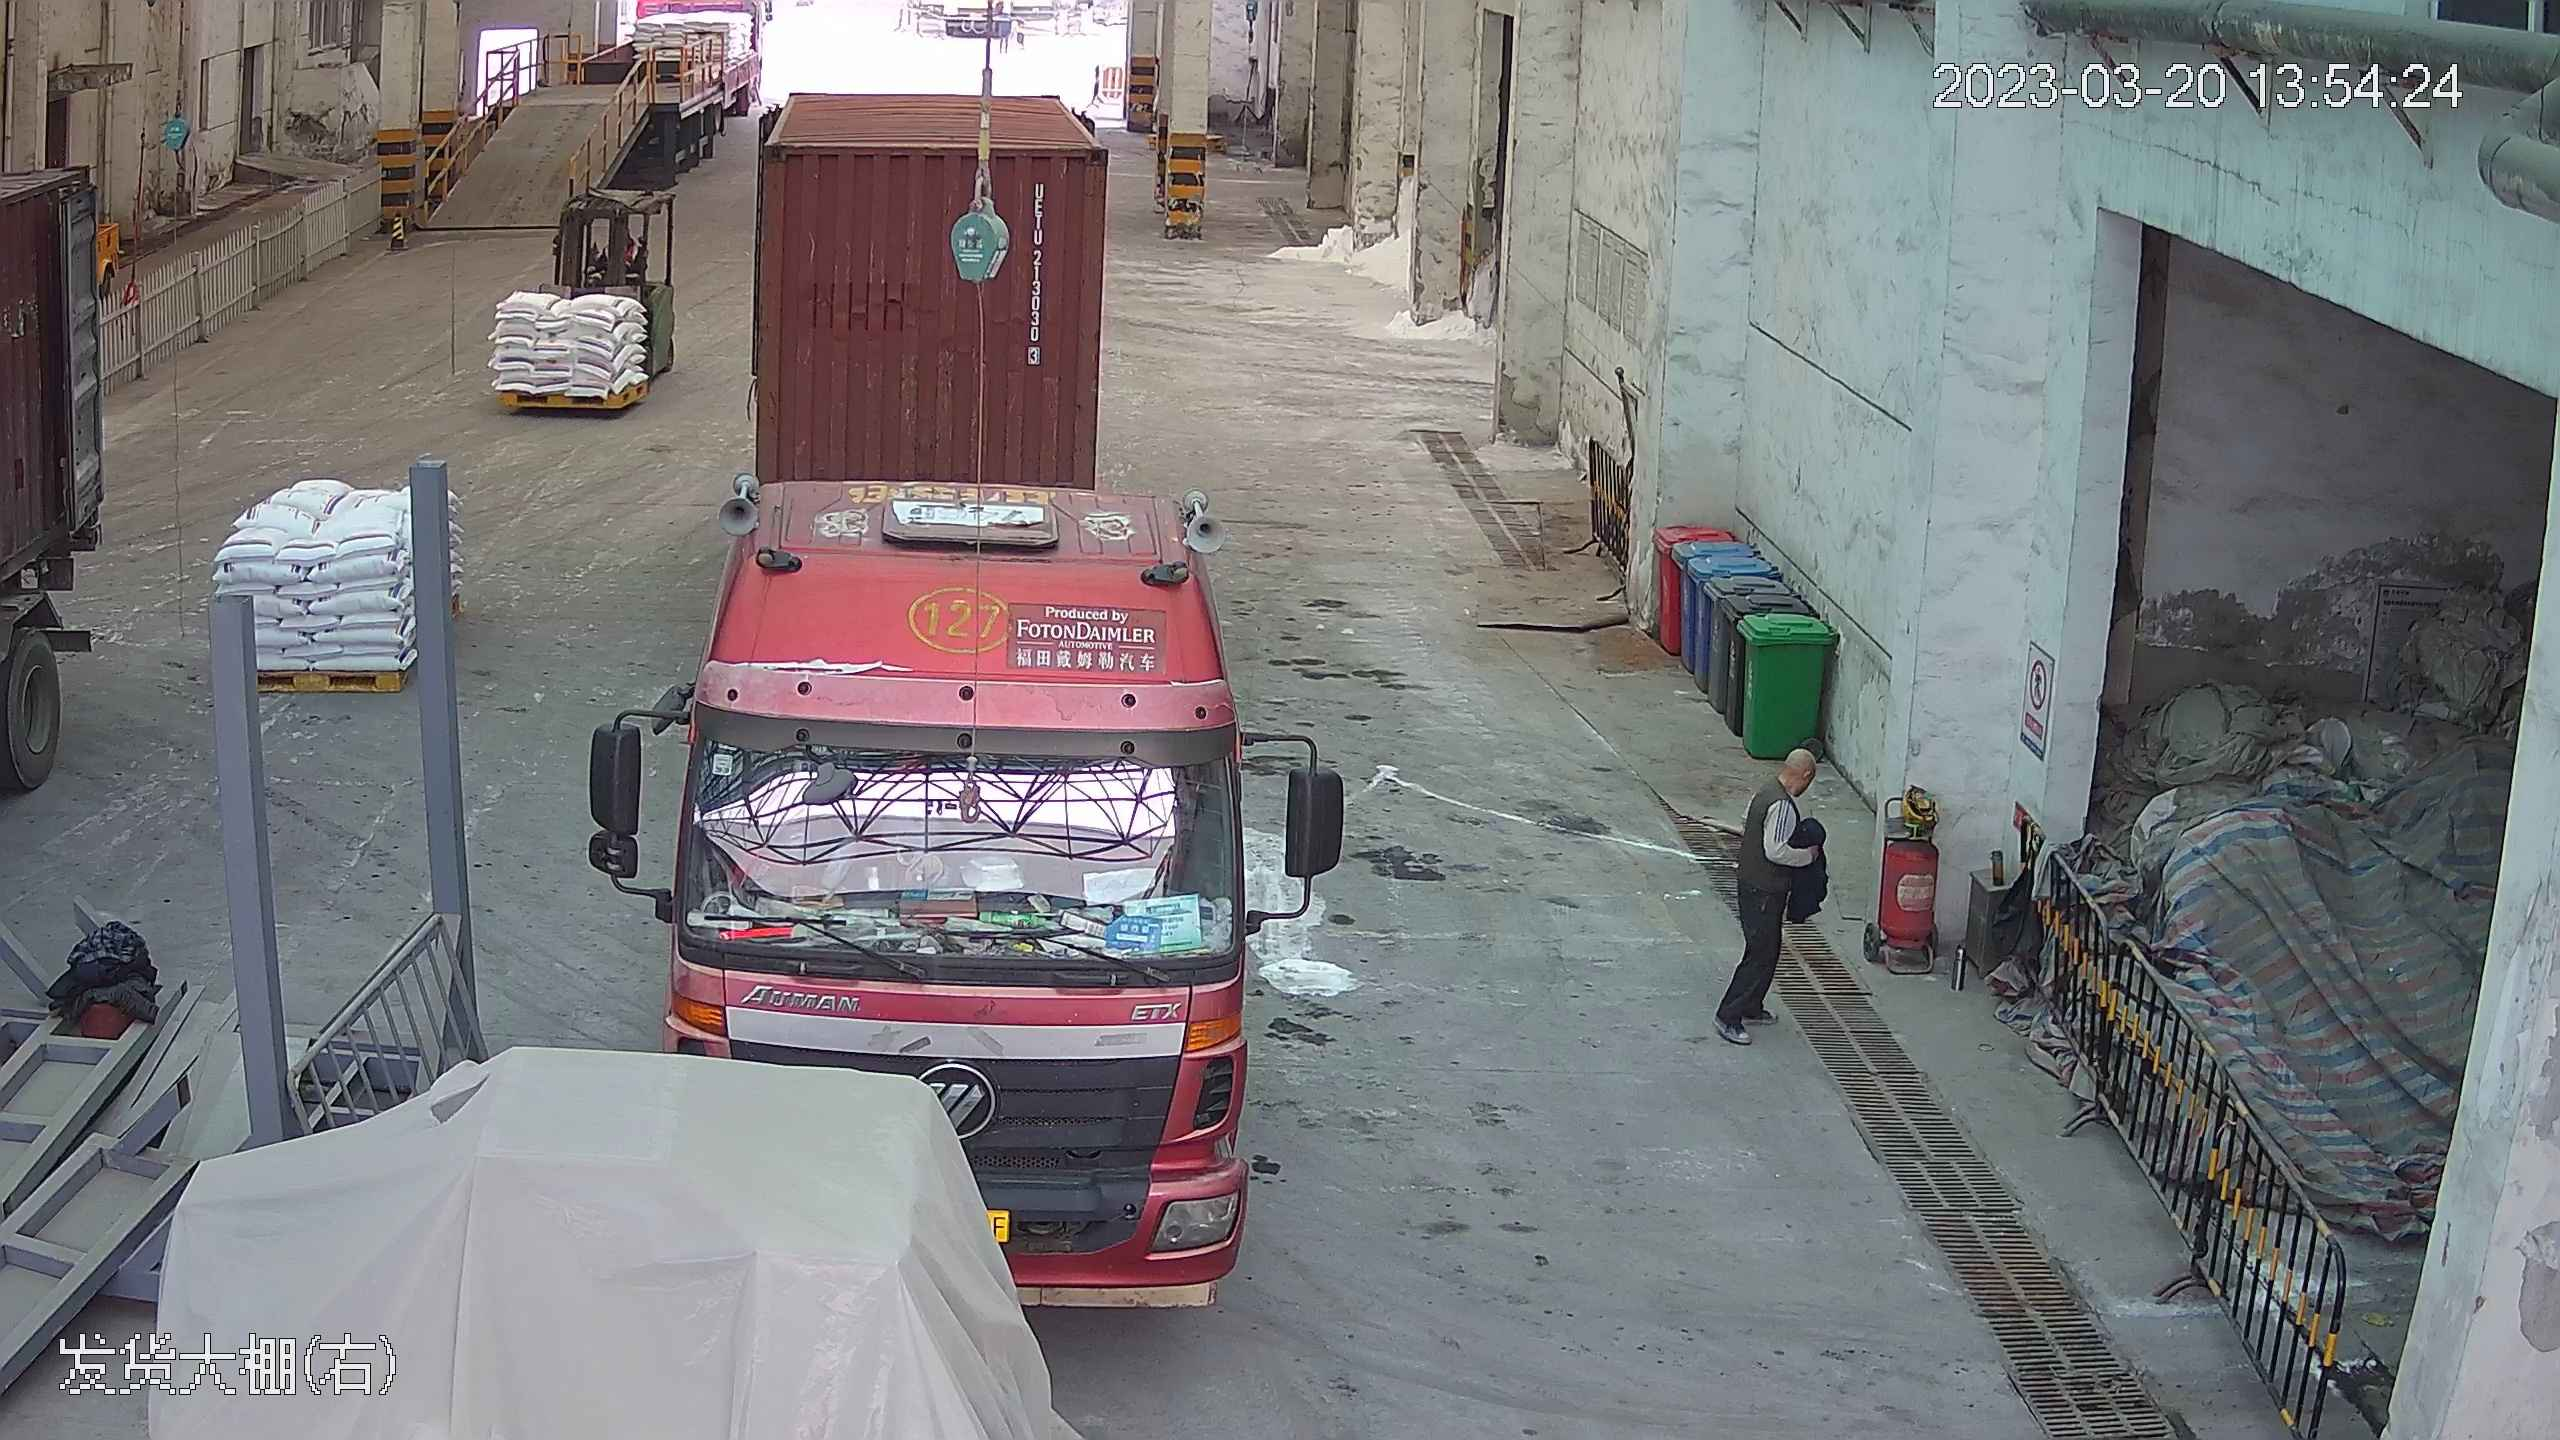head: (1745, 742, 1825, 842)
people: (1706, 735, 1829, 1043)
truck: (642, 25, 1272, 1300)
